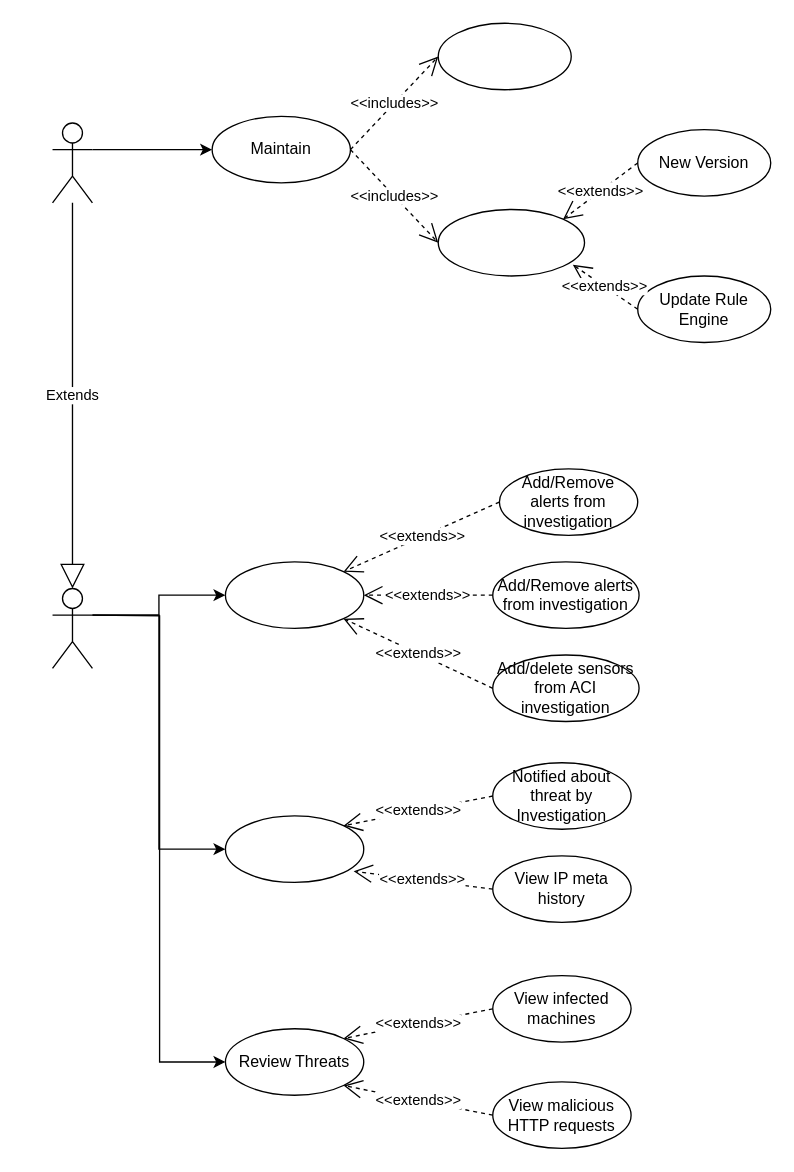
This 794x1172 diagram has some shape labels left out. The shapes that lost their labels are listed below. From the top down, each one's centre as x and y in pixels, then its label:
At pixel 504 56: "Install".
At pixel 71 162: "Administrator".
At pixel 511 242: "Update".
At pixel 294 594: "Configure ACI".
At pixel 71 627: "Cyber Analyst".
At pixel 294 848: "Investigate Threats".
